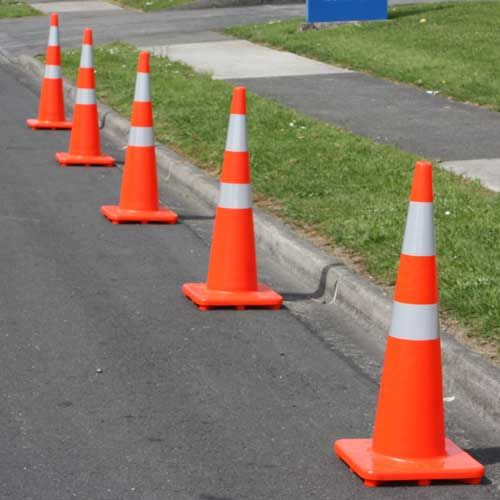cones: (352, 159, 485, 486), (194, 84, 284, 310), (114, 47, 178, 228), (69, 25, 118, 169), (27, 9, 71, 136)
